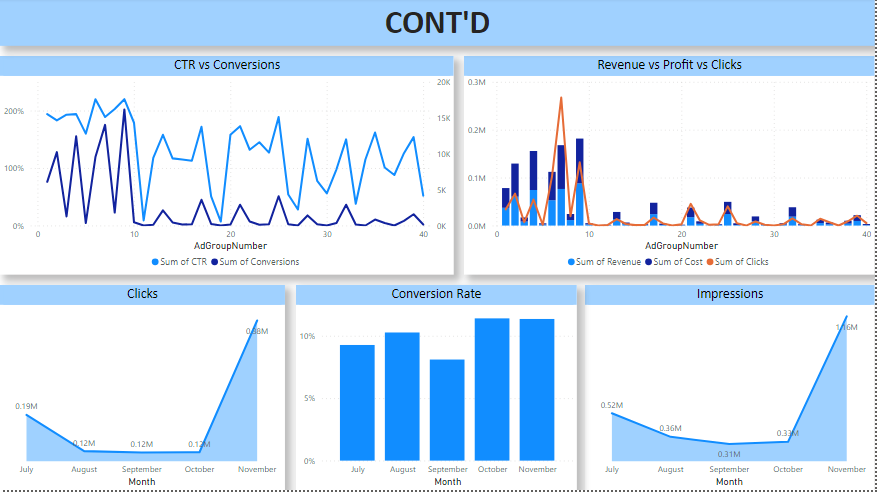

The dashboard page shown, as its layout file describes it:
{"tool":"powerbi","page":{"name":"Cont'd","canvas":[1280,720],"ordinal":1},"visuals":[{"type":"lineChart","title":"CTR  vs Conversions ","fields":{"Y":["Sum(final_shop_6modata.CTR)"],"Category":["final_shop_6modata.AdGroupNumber"],"Y2":["Sum(final_shop_6modata.Conversions)"]},"box":[0,84.9,664.4,320.5],"z":0},{"type":"lineStackedColumnComboChart","title":" Revenue vs Profit vs Clicks ","fields":{"Category":["final_shop_6modata.AdGroupNumber"],"Y2":["Sum(final_shop_6modata.Clicks)"],"Y":["Sum(final_shop_6modata.Revenue)","Sum(final_shop_6modata.Cost)"]},"box":[679,84.9,601.5,320.5],"z":1000},{"type":"areaChart","title":"Clicks","fields":{"Category":["final_shop_6modata.NewDateColumn.Variation.Date Hierarchy.Month"],"Y":["Sum(final_shop_6modata.Clicks)"]},"box":[0,420,417.1,300],"z":2000},{"type":"textbox","box":[0,0,1280.5,70.2],"z":3000},{"type":"areaChart","title":"Impressions","fields":{"Category":["final_shop_6modata.NewDateColumn.Variation.Date Hierarchy.Month"],"Y":["Sum(final_shop_6modata.Impressions)"]},"box":[856.1,420,424.4,300],"z":4000},{"type":"clusteredColumnChart","title":"Conversion Rate","fields":{"Category":["final_shop_6modata.NewDateColumn.Variation.Date Hierarchy.Month"],"Y":["final_shop_6modata.ConversionRate"]},"box":[433.2,420,411.2,300],"z":5000}]}

Visuals, with their boxes in screenshot pixels (x1, y1, x2, y2), scaled from the page's 1280x720 canvas onto the 877x492 screenshot:
"CTR  vs Conversions " lineChart: bbox=(0, 58, 455, 277)
" Revenue vs Profit vs Clicks " lineStackedColumnComboChart: bbox=(465, 58, 876, 277)
"Clicks" areaChart: bbox=(0, 287, 286, 491)
textbox: bbox=(0, 0, 876, 48)
"Impressions" areaChart: bbox=(587, 287, 876, 491)
"Conversion Rate" clusteredColumnChart: bbox=(297, 287, 579, 491)
